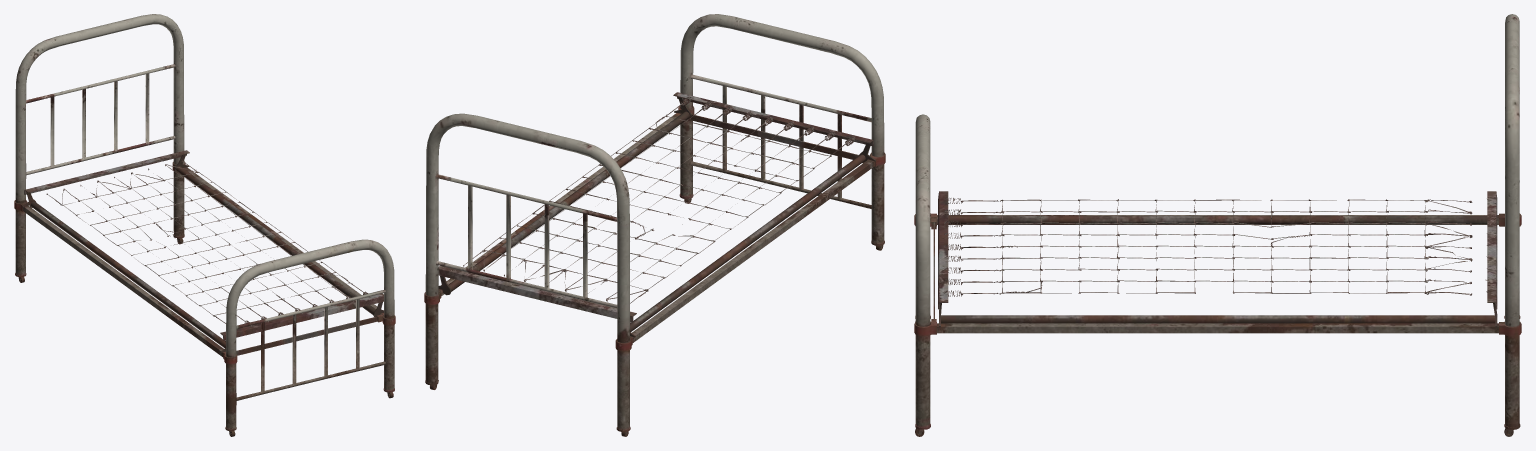
File: old_bed_frame.glb
3 renders of one model, left to right at view 1: azimuth 30°, elevation 25°; view 2: azimuth 150°, elevation 25°; view 3: azimuth 270°, elevation 25°, orthographic. The views are drawn at different scales.
Parts seen in each view (by area): view 1: old_bed_frame; view 2: old_bed_frame; view 3: old_bed_frame.
Boxes of the visible parts, bbox=[...] form: old_bed_frame: bbox=[14, 14, 395, 436]; old_bed_frame: bbox=[424, 14, 885, 436]; old_bed_frame: bbox=[914, 14, 1521, 436].
Size of the model in its own units: 0.9047 by 1.2 by 2.
Materials: 1 (1 with a texture image).
